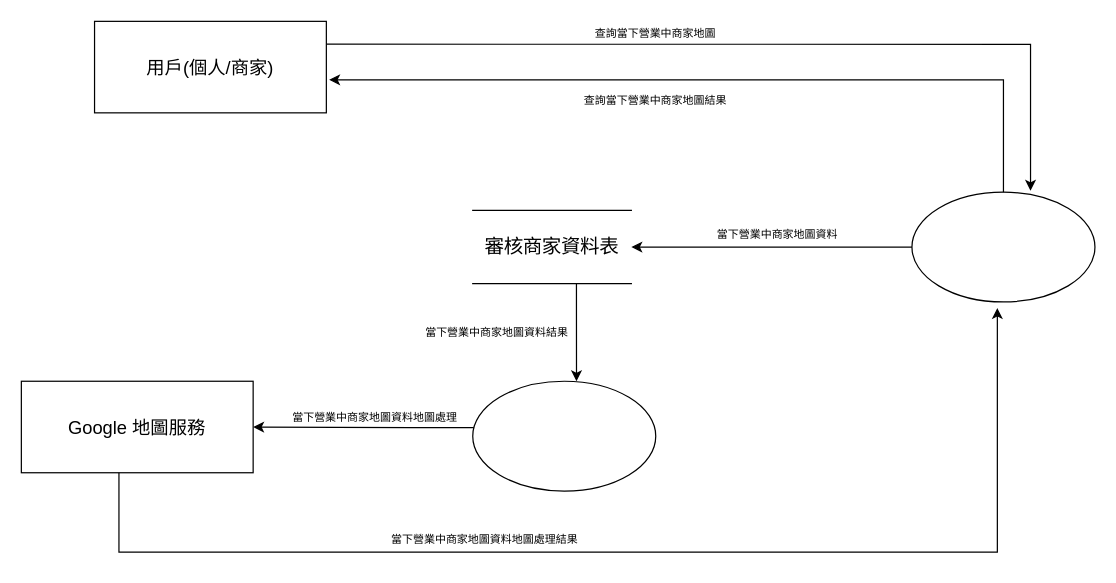
The diagram is 1116 pixels wide and 583 high, and some of its shapes have lost their labels. The shapes that lost their labels are listed below. From the top down, each one's centre as x and y in pixels, then its label:
At [1003,246]: "6.1 當下營業中商家地圖".
At [564,435]: "6.2 地圖顯示服務處理".
